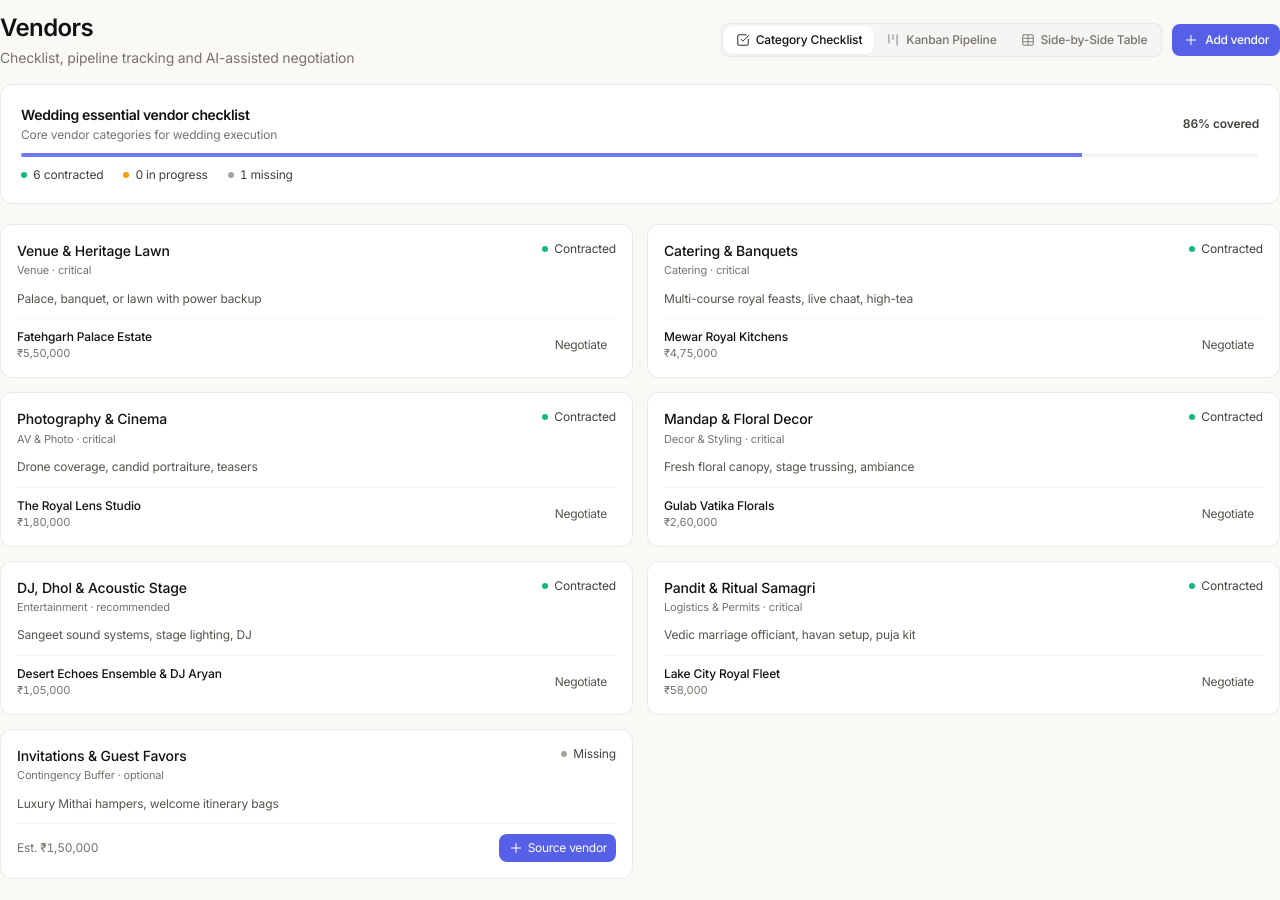
Test case: User Input CRUD: Budget & Vendor Operations › renders Add Vendor button in VendorsTab and opens modal
Step 1. Click the button "Add vendor" → coordinates (1226, 40), box [1172,24,1279,56]
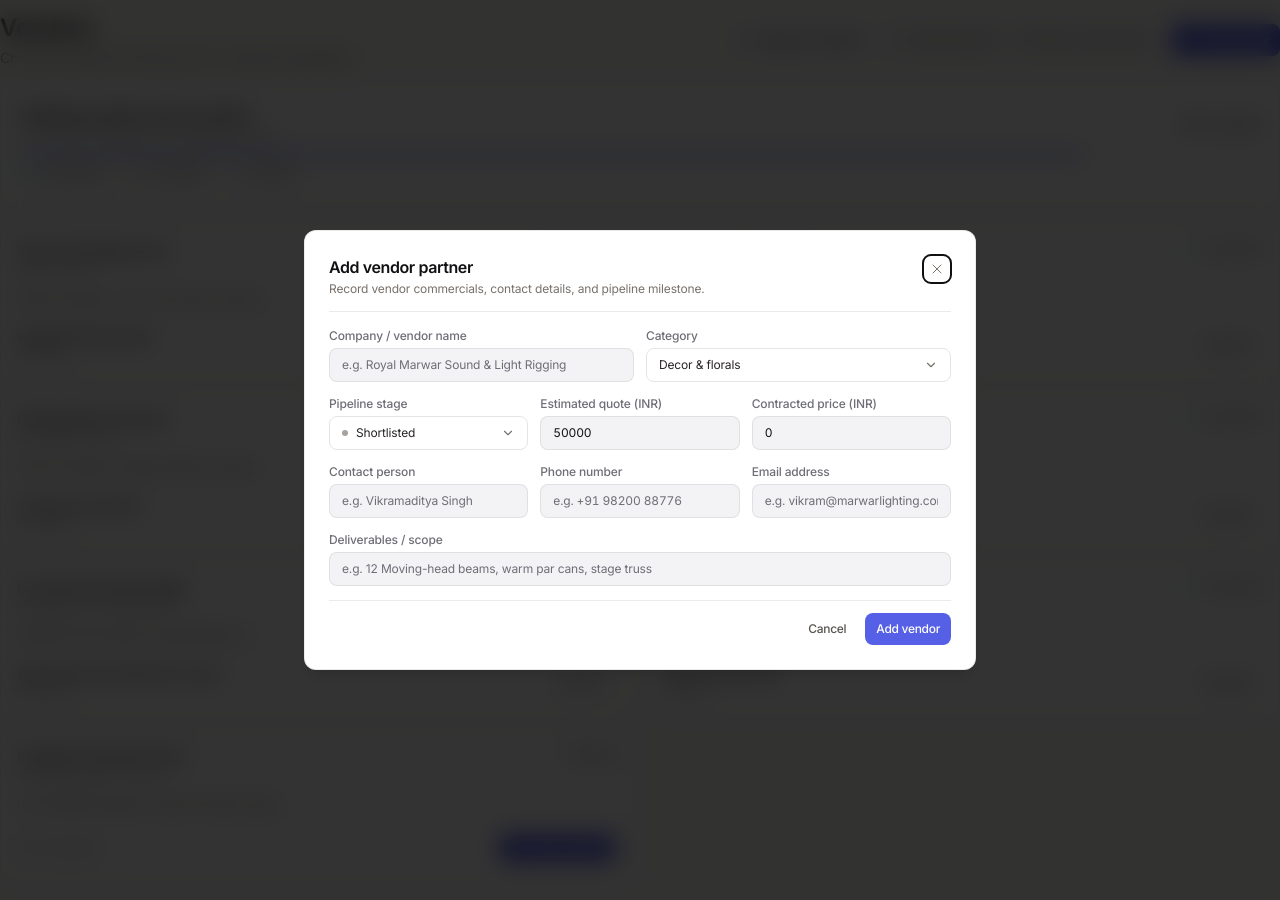
Check: the heading "Add vendor partner" is shown, box [329,257,473,277]
Check: the field labelled "Company / vendor name" is shown, box [329,348,634,382]
